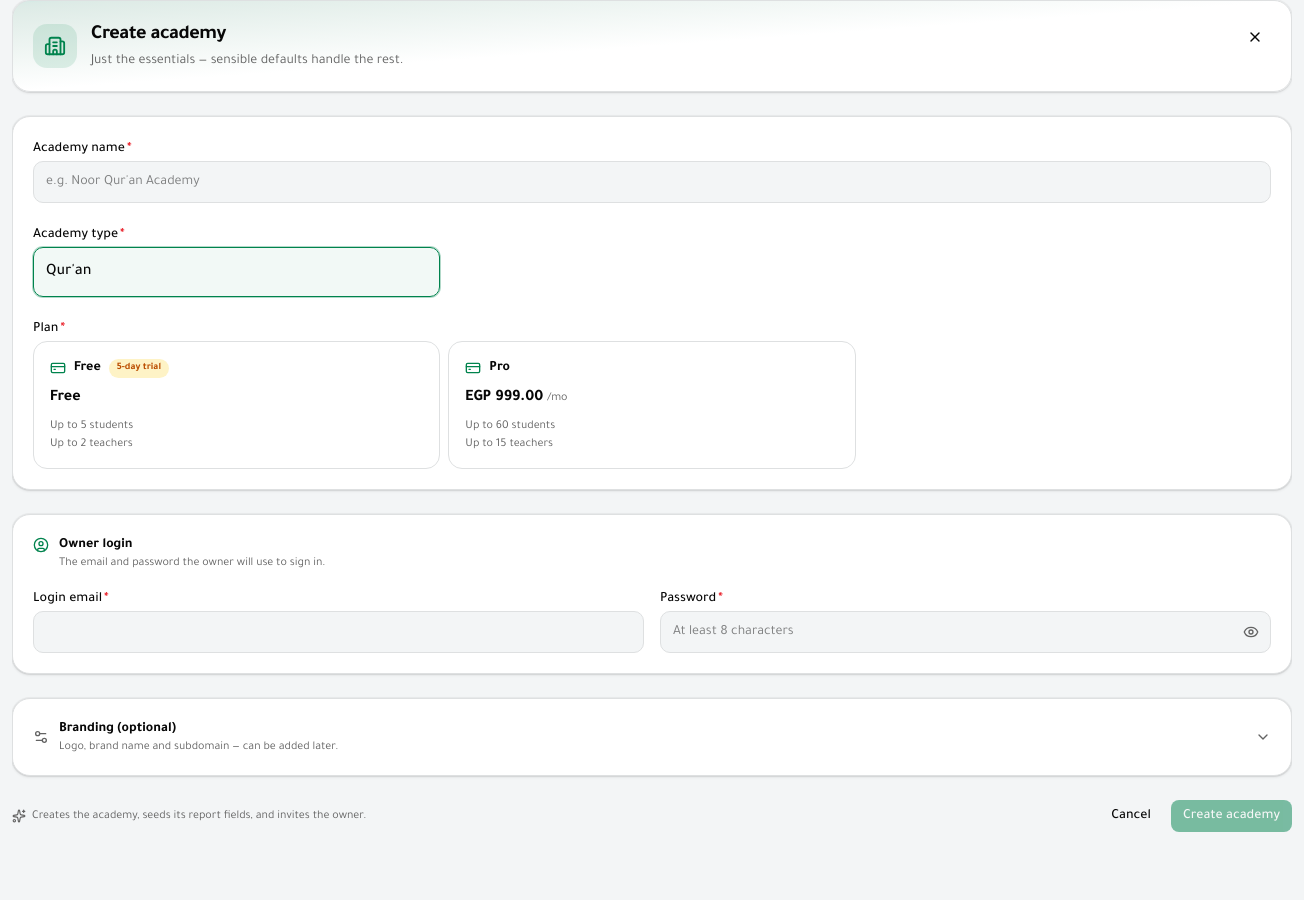
AcademyWizard (single-screen quick create) › keeps Create disabled until the essentials are valid
This screenshot has width=1304, height=900.
Expected: the button "Create academy" is disabled, left=1171, top=800, right=1292, bottom=832
# Name + plan + email but no password yet → still disabled.
Type "Half Academy" into the field labelled "Academy name" at (652, 182), box left=33, top=161, right=1271, bottom=203
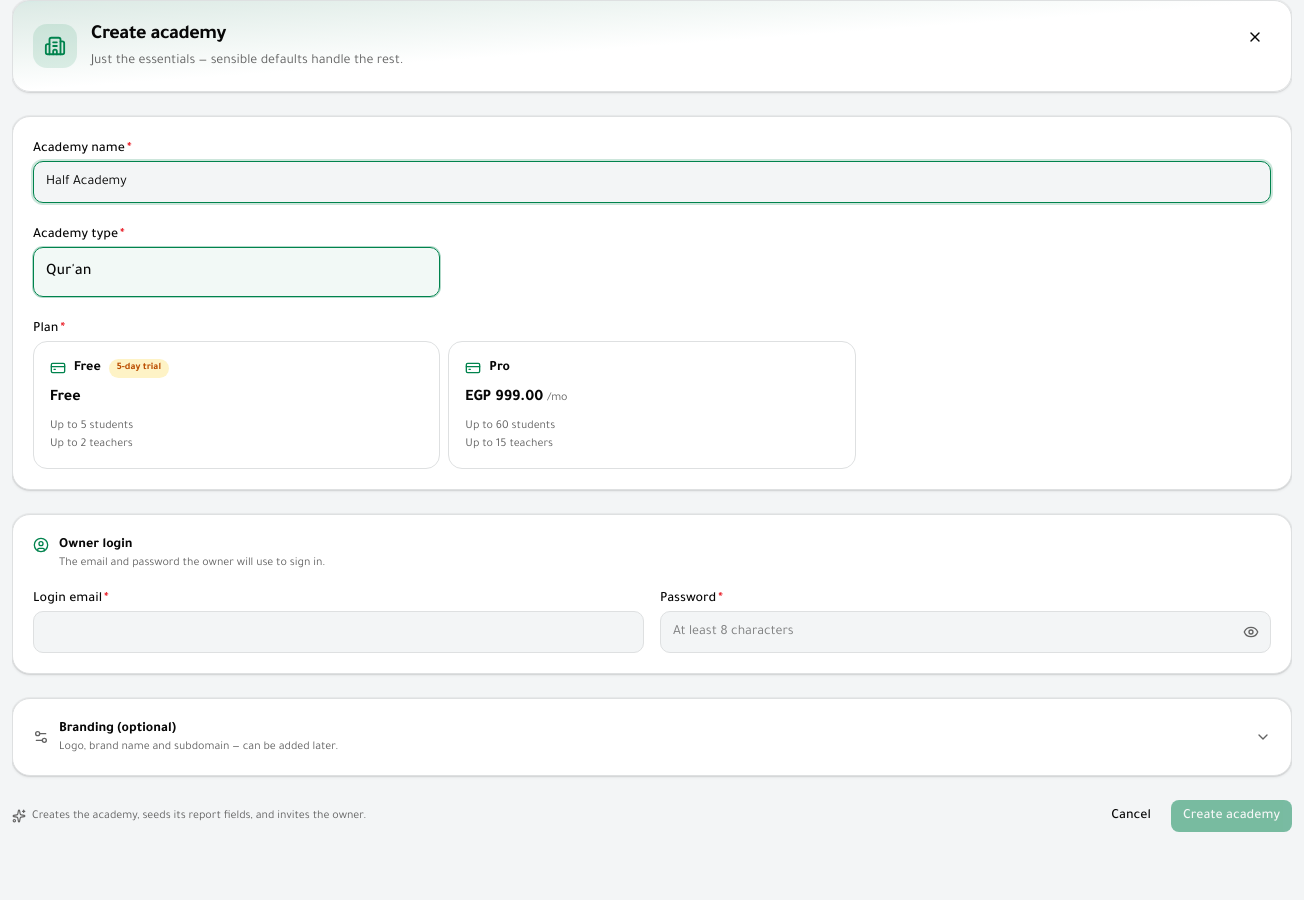
Click the button with test id "plan-PRO" at (504, 398), box left=448, top=341, right=856, bottom=469
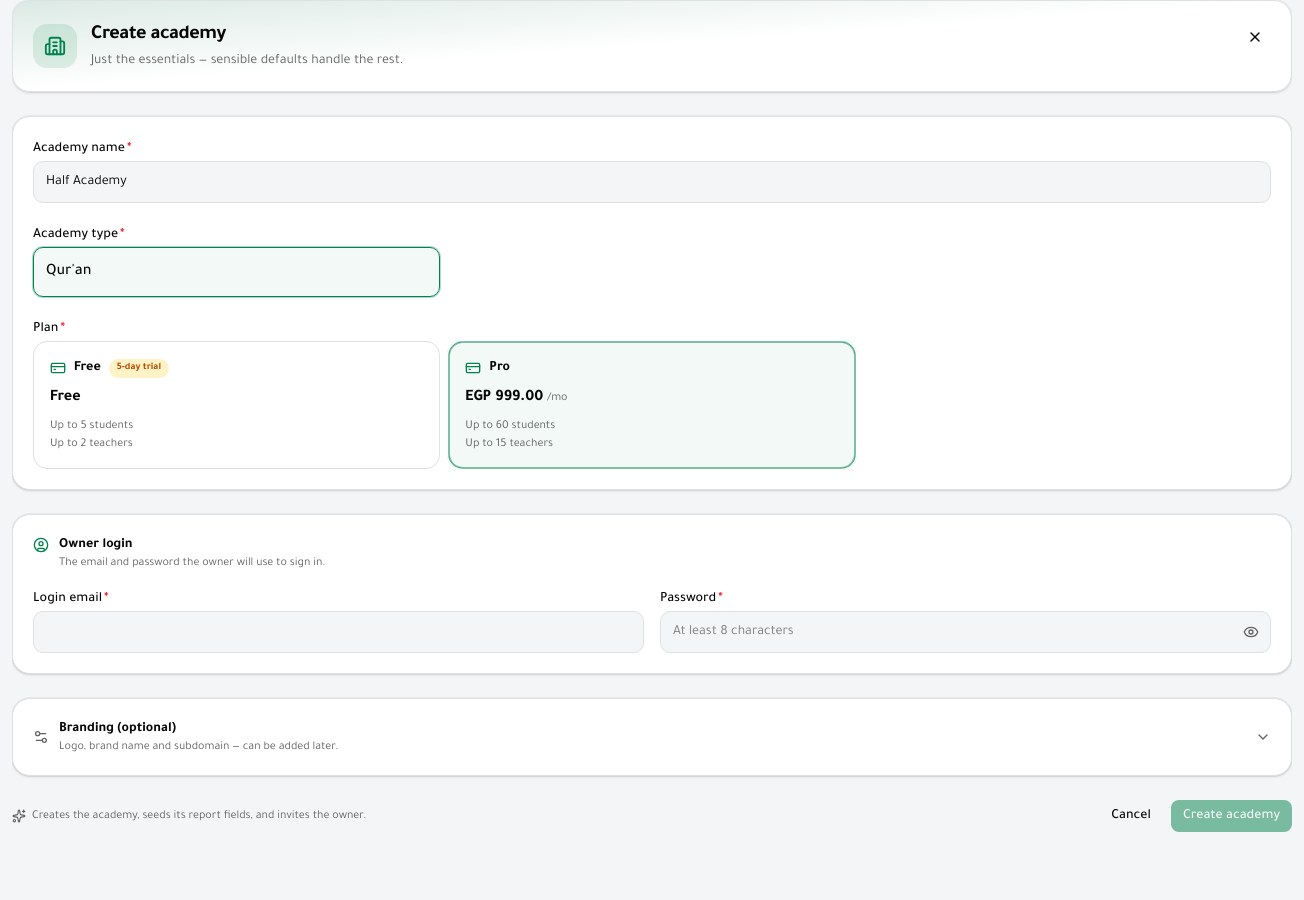
Type "owner@x.test" into the field labelled "Login email" at (338, 632), box left=33, top=611, right=644, bottom=653
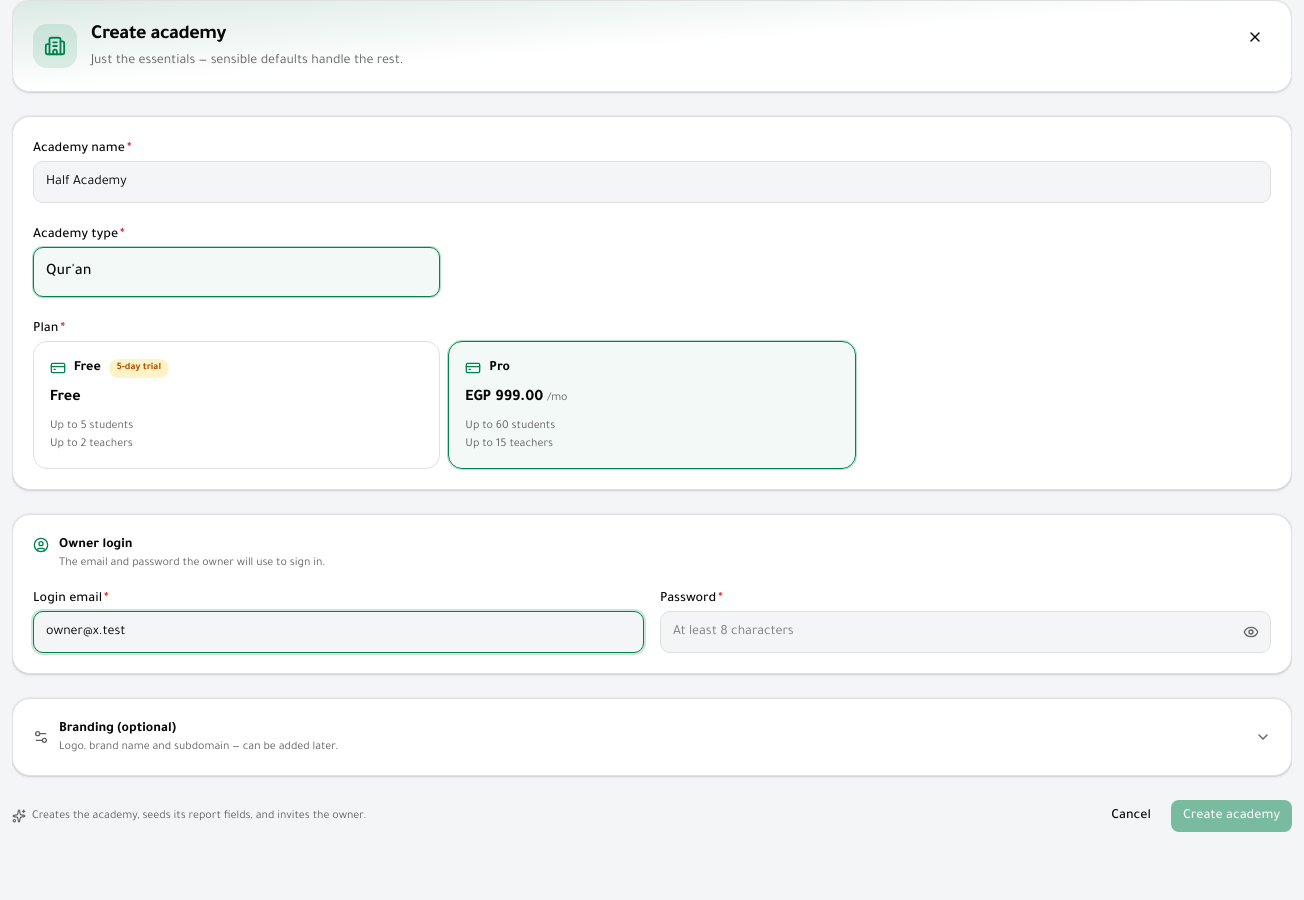
Expected: the button "Create academy" is disabled, left=1171, top=800, right=1292, bottom=832
Type "secret123" into the password field labelled "Password" at (966, 632), box left=660, top=611, right=1271, bottom=653
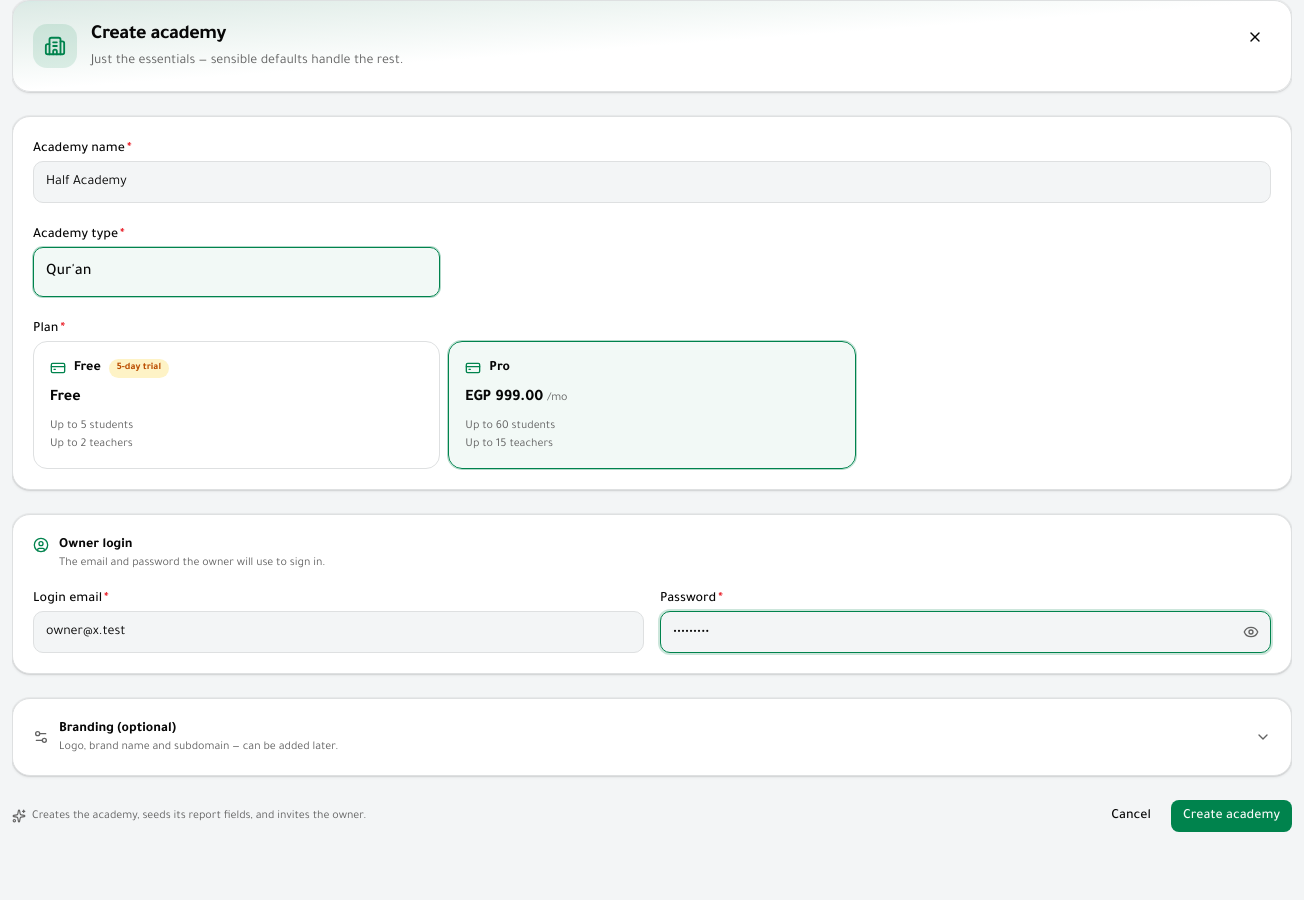
Expected: the button "Create academy" is enabled, left=1171, top=800, right=1292, bottom=832
